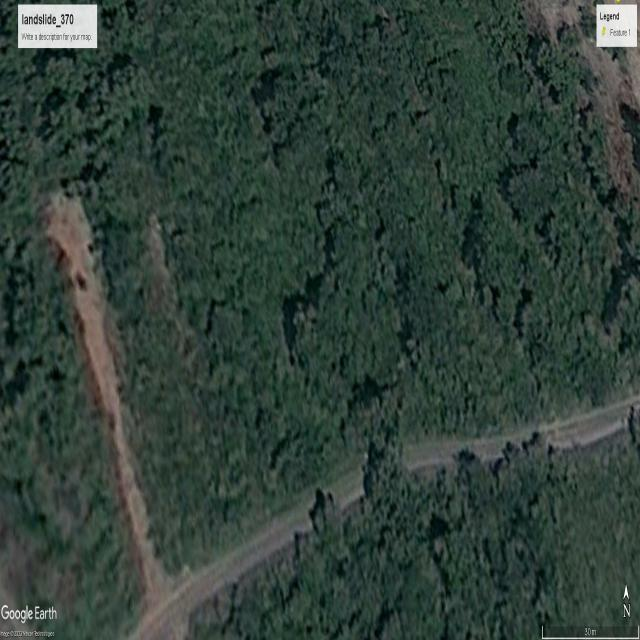Landslide: (46, 178, 168, 598)
